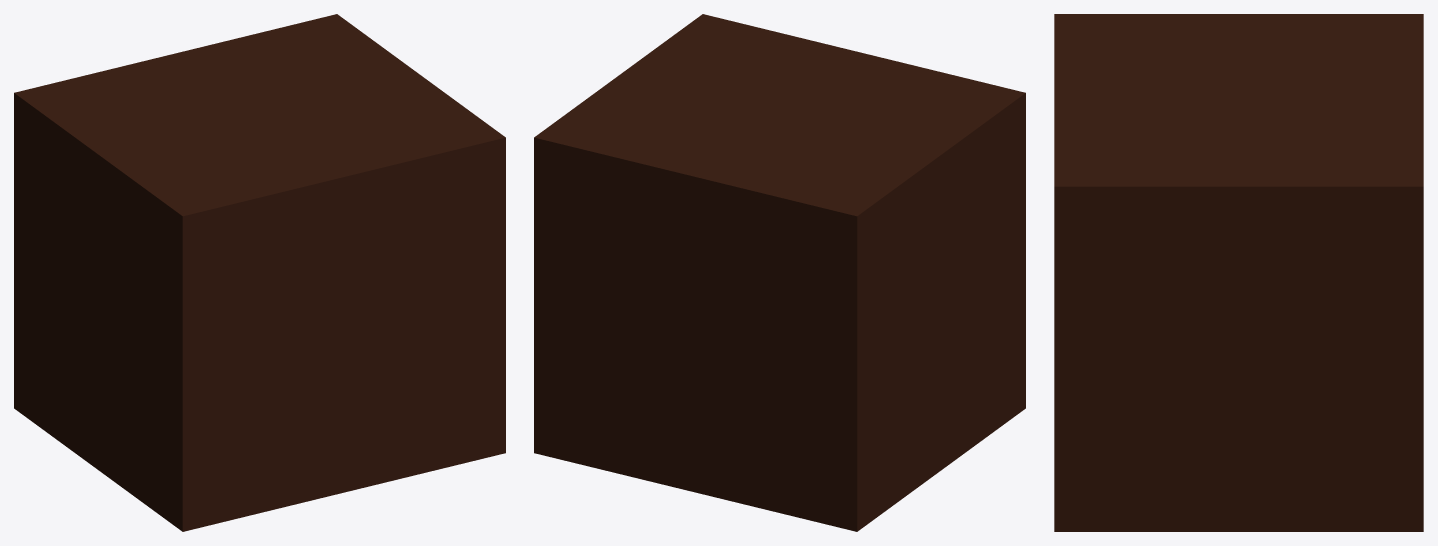
The model's file is drawer_unit.obj.
3 views of the same model, side by side, from view 1: azimuth 30°, elevation 25°; view 2: azimuth 150°, elevation 25°; view 3: azimuth 270°, elevation 25° (orthographic). The views are drawn at different scales.
Parts seen in each view (by area): view 1: dark_wood; view 2: dark_wood; view 3: dark_wood.
Boxes of the visible parts, <box> form: dark_wood: <box>14,14,505,531</box>; dark_wood: <box>534,14,1025,531</box>; dark_wood: <box>1054,14,1423,531</box>.
Bounding box in the file's own units: 1.05 × 0.98 × 0.95.
